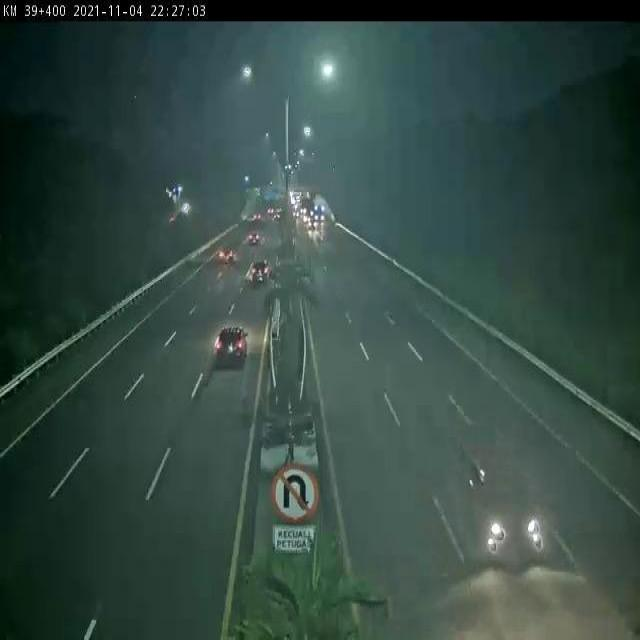car: (461, 442, 542, 562), (215, 327, 249, 368), (249, 261, 269, 284)
